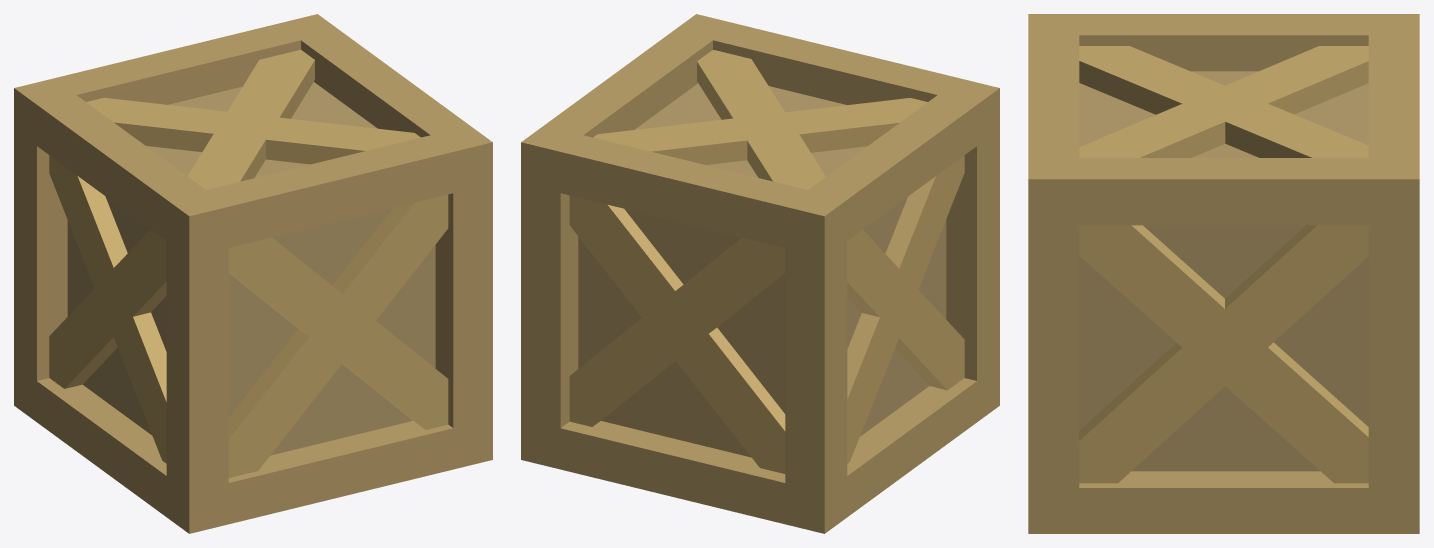
The model's file is Crate.fbx.
The picture shows the model from 3 angles, left to right: view 1: azimuth 30°, elevation 25°; view 2: azimuth 150°, elevation 25°; view 3: azimuth 270°, elevation 25°; orthographic projection. The views are drawn at different scales.
Visible parts, largest first — view 1: pCube15; view 2: pCube15; view 3: pCube15.
Boxes of the visible parts, box(x1,y1,x2,y2) form: pCube15: box(14, 14, 492, 533); pCube15: box(521, 14, 999, 533); pCube15: box(1028, 14, 1419, 533).
Size of the model in its own units: 1 by 1 by 1.
